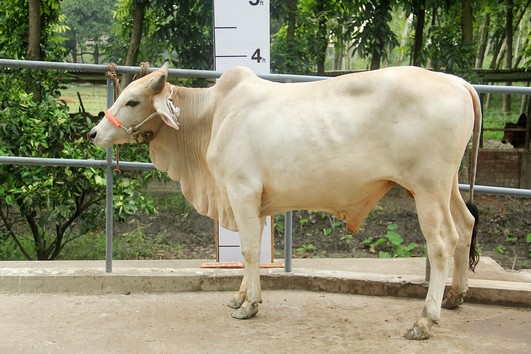cow: (85, 55, 488, 341)
